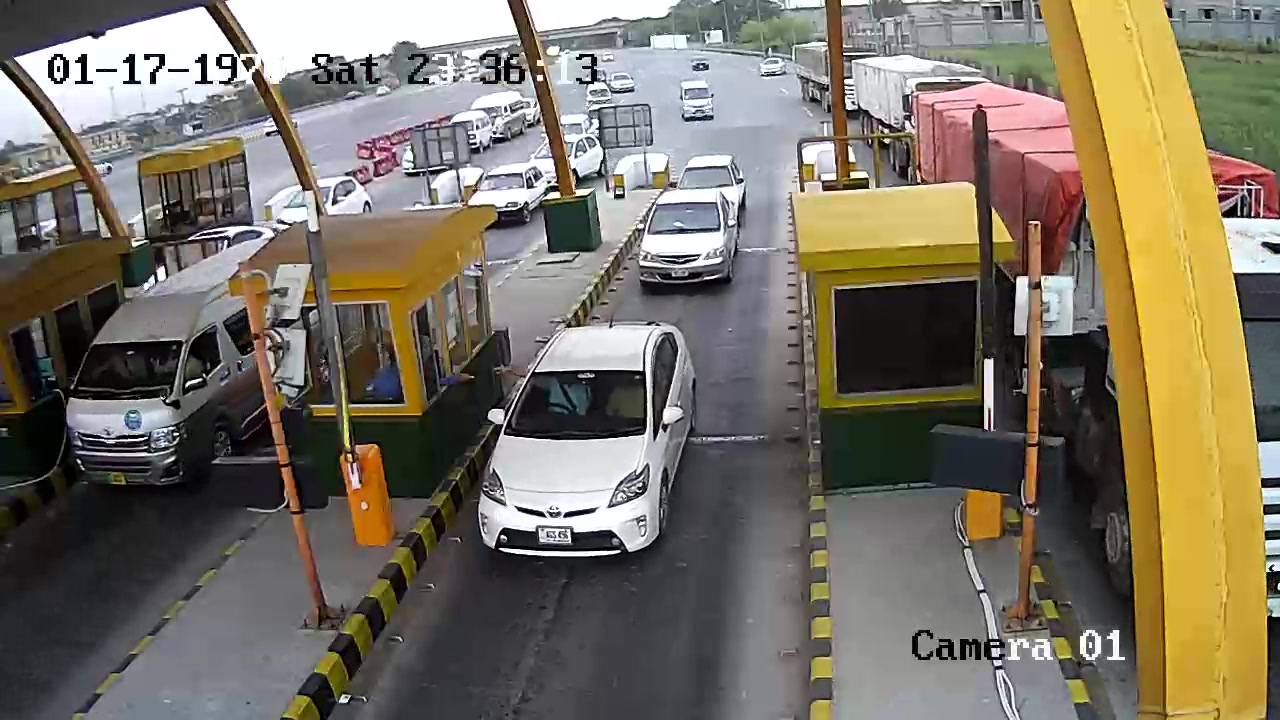F1: (461, 308, 710, 573), (629, 187, 742, 296)
